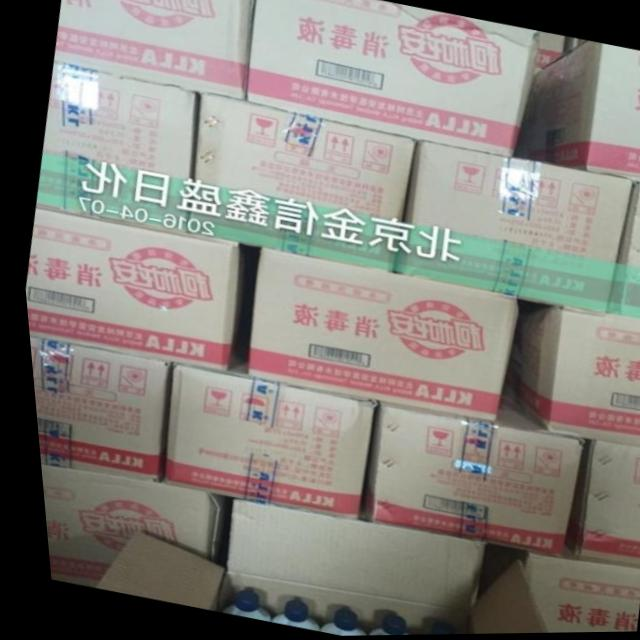box: (84, 501, 536, 637), (239, 249, 510, 421), (243, 0, 536, 156), (182, 92, 418, 275), (389, 141, 631, 316), (21, 209, 247, 371), (347, 400, 579, 557), (153, 362, 373, 522), (32, 64, 194, 233), (32, 465, 222, 586), (493, 301, 640, 449), (23, 335, 165, 481), (53, 0, 253, 100), (512, 43, 640, 182), (559, 441, 640, 567), (511, 553, 633, 634), (601, 182, 640, 322)
